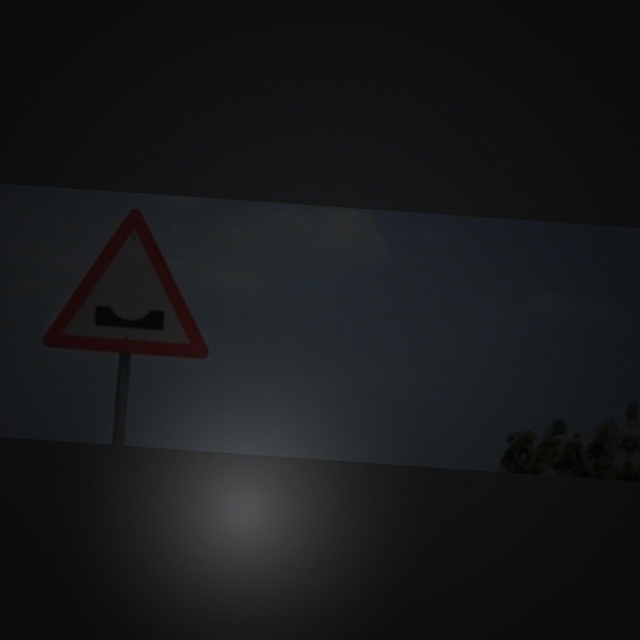Dangerous_Dip: (47, 204, 219, 360)
